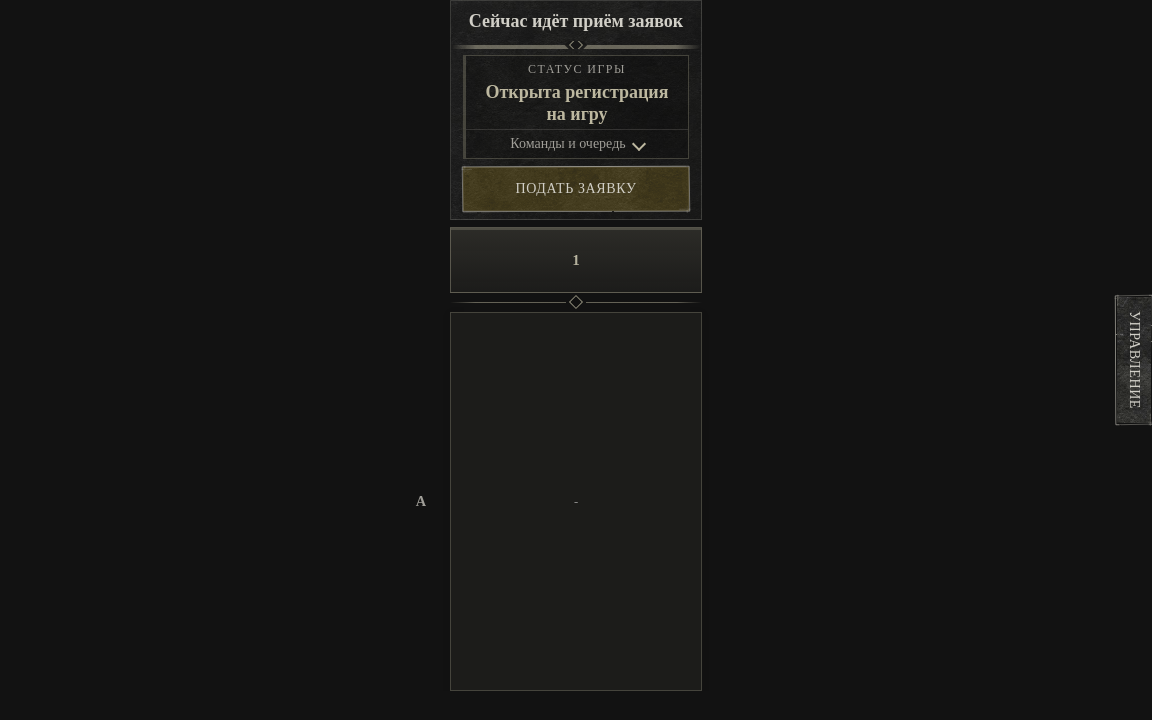
Test: GameBoardPage › shows blocked launch state inside the management panel action
Click the button with aria-label "Управление игрой".
click(1134, 360)  # box [1116,296,1151,424]
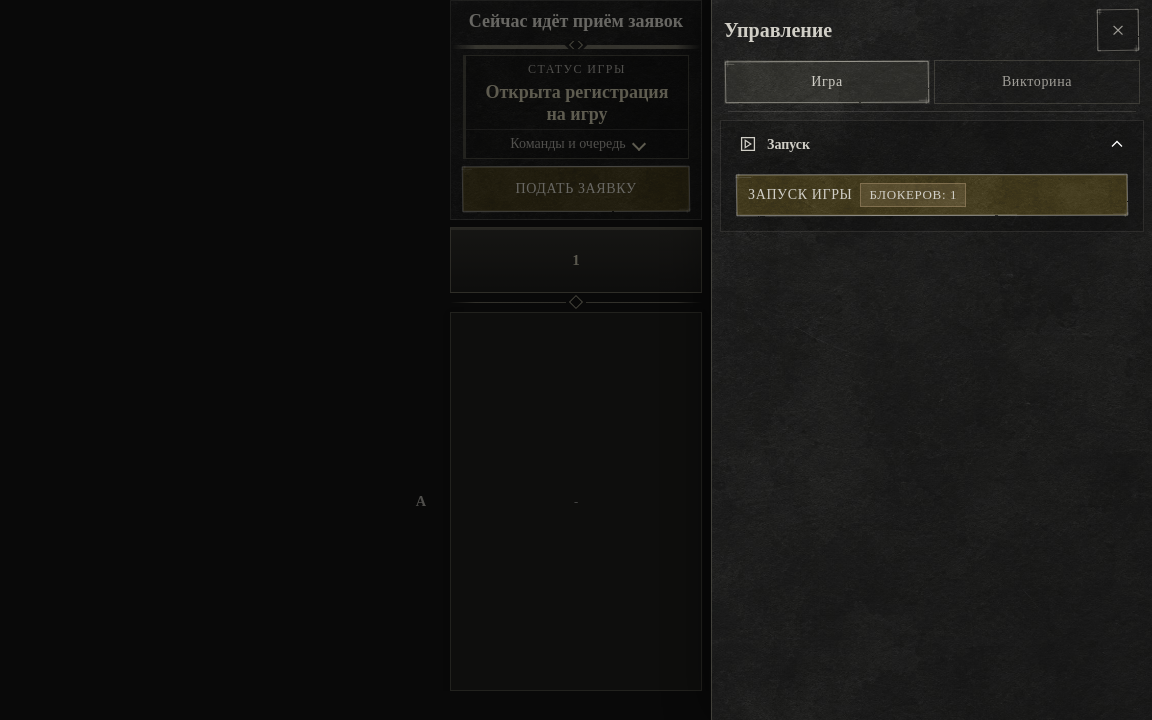
Result: the element named "Инструменты управления игрой" is shown at [720,8,1144,232]
Result: the button "Запуск игры Блокеров: 1" is shown at [737,175,1127,215]
